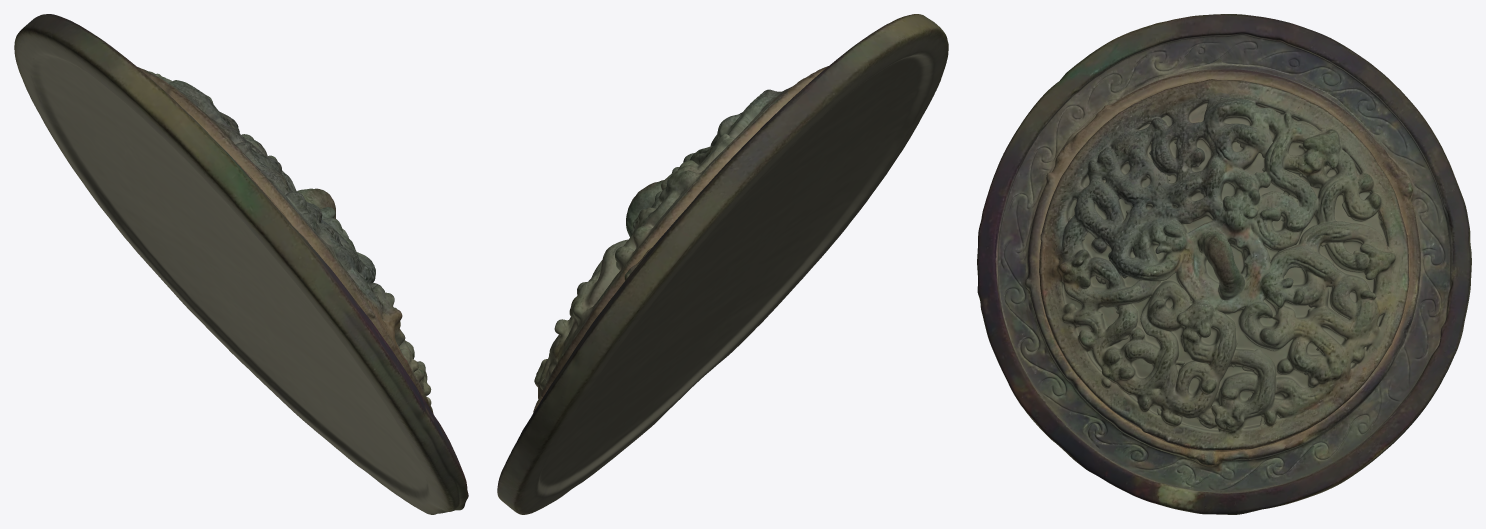
Rendered from met-interlaced-dragons-mirror.glb.
The picture shows the model from 3 angles, left to right: view 1: azimuth 30°, elevation 25°; view 2: azimuth 150°, elevation 25°; view 3: azimuth 270°, elevation 25°; orthographic projection. The views are drawn at different scales.
Bounding box in the file's own units: 0.5677 × 0.8728 × 1.
Materials: 1 (1 with a texture image).
